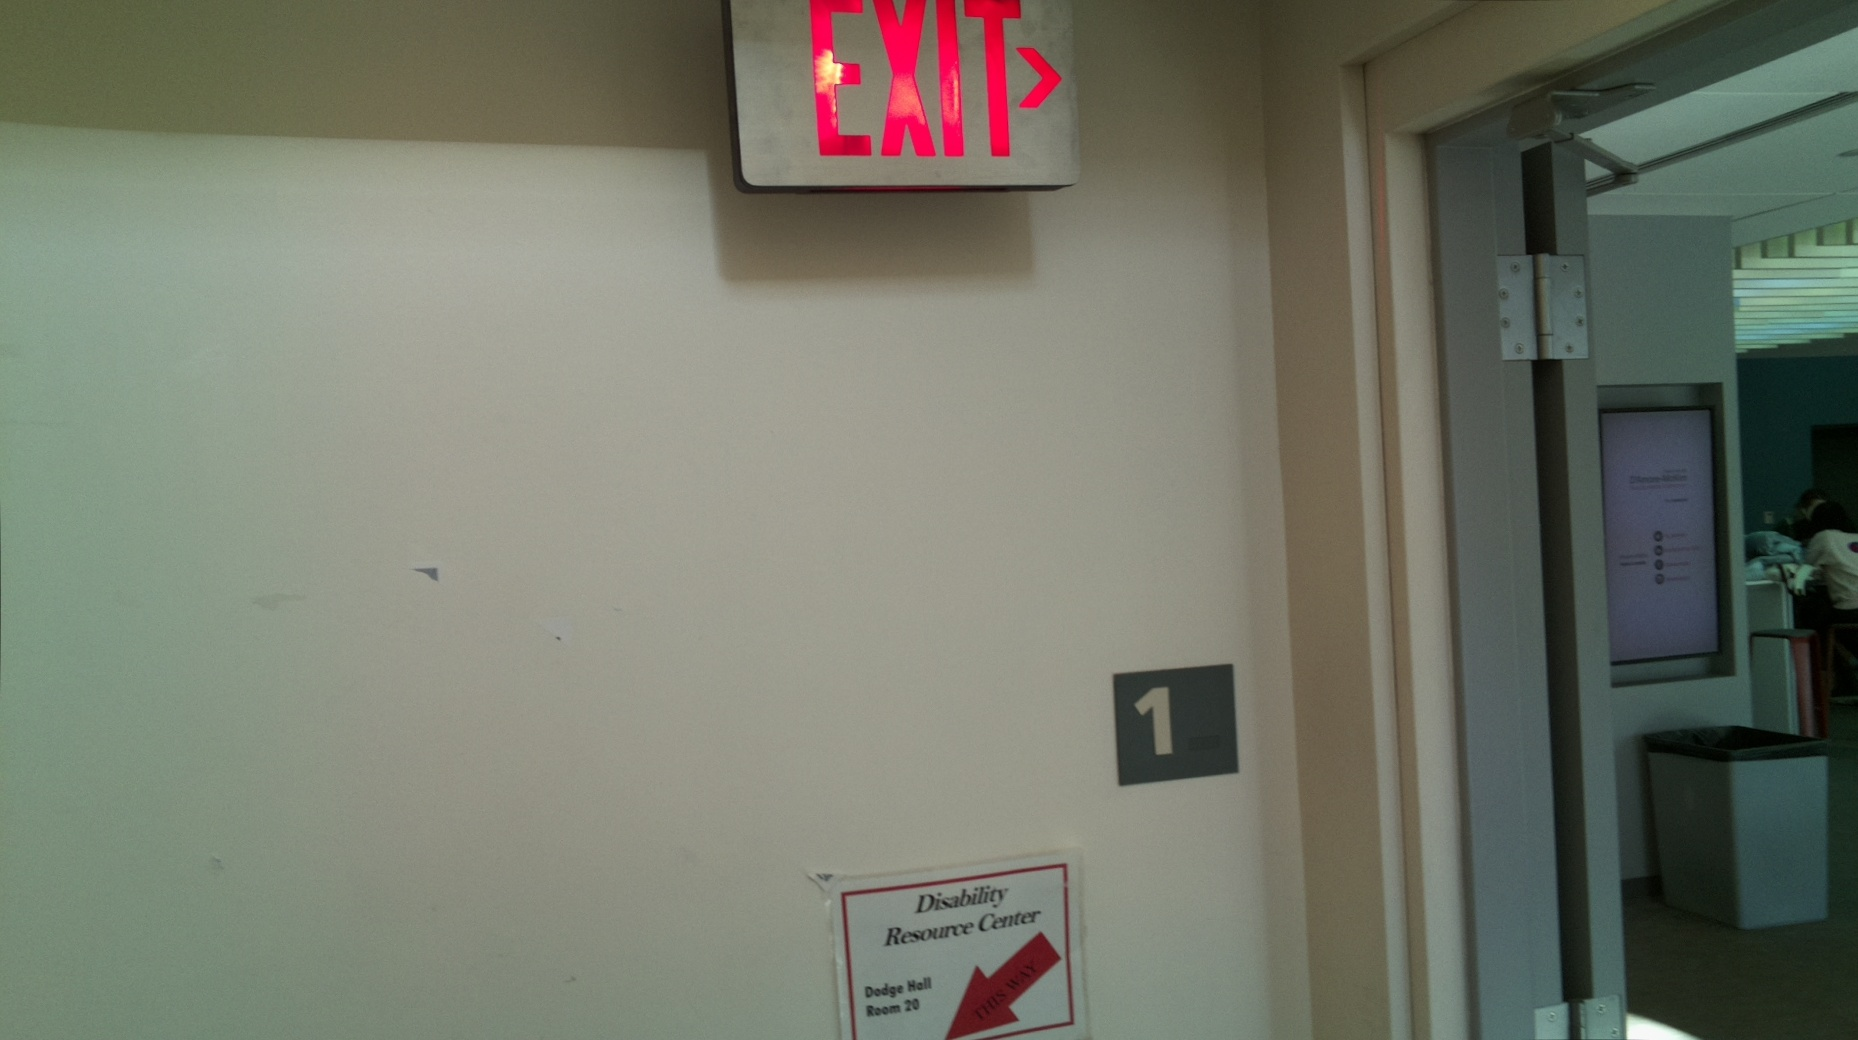exit sign: (712, 1, 1089, 208)
